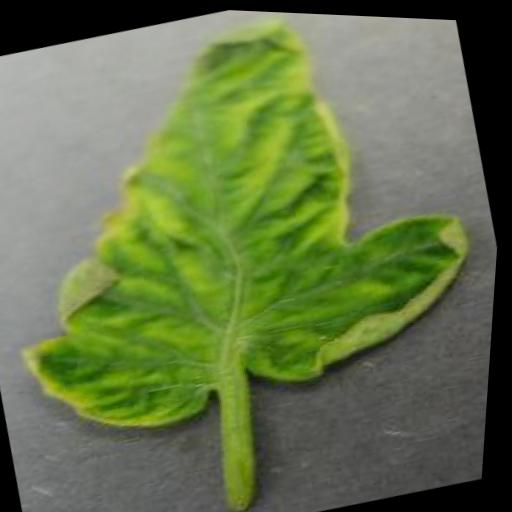Yellow Leaf Curl Virus: (0, 0, 512, 466)
